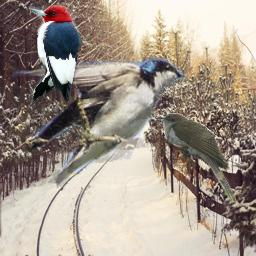Cuckoo: (156, 113, 236, 204)
Swallow: (12, 56, 186, 189)
Woodpecker: (29, 2, 82, 106)
